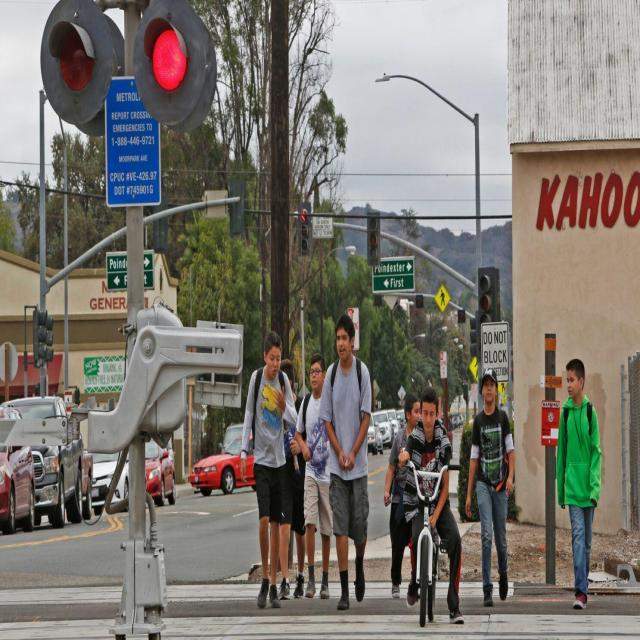person: (317, 308, 374, 614), (238, 326, 298, 612), (462, 368, 520, 608), (554, 356, 607, 616)
